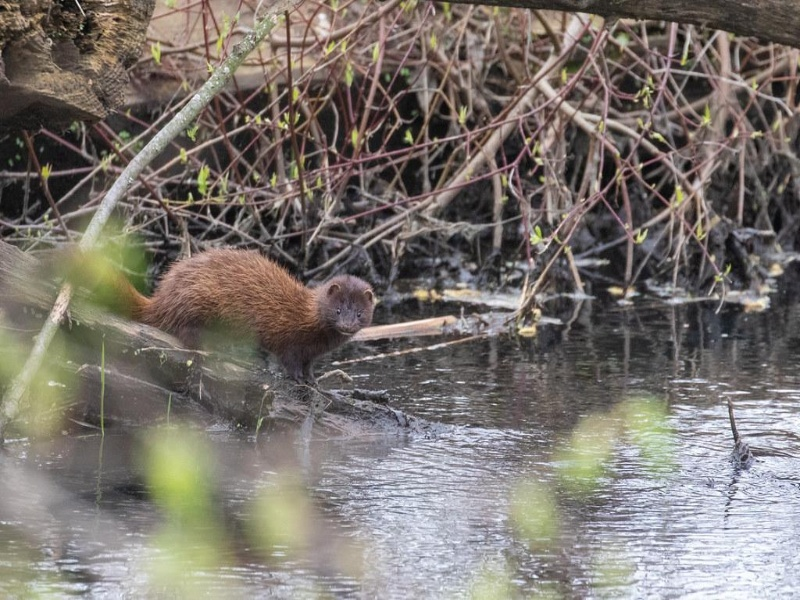minkish: (59, 232, 378, 392)
